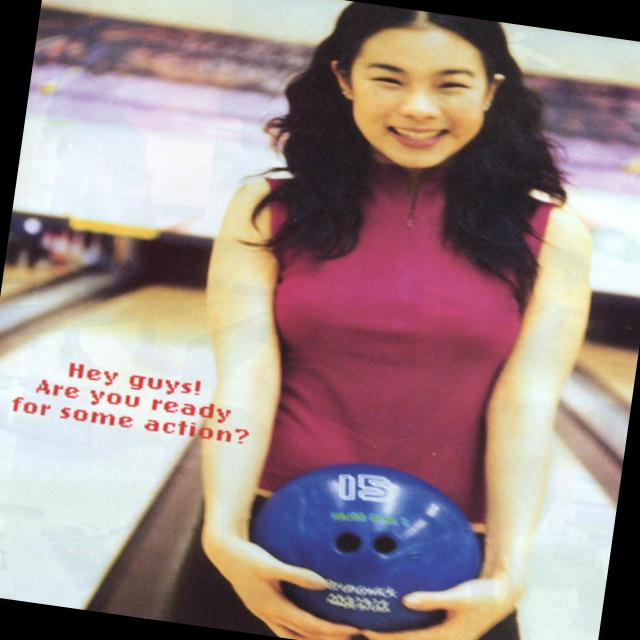Ball: (235, 447, 492, 640)
